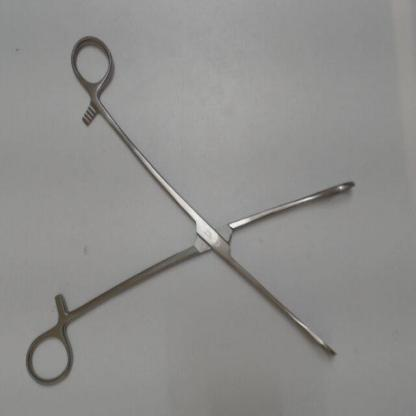Sponge Forceps: (19, 29, 363, 394)
